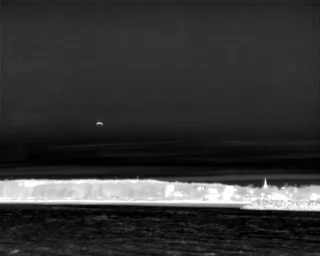BIRD: (94, 119, 105, 129)
